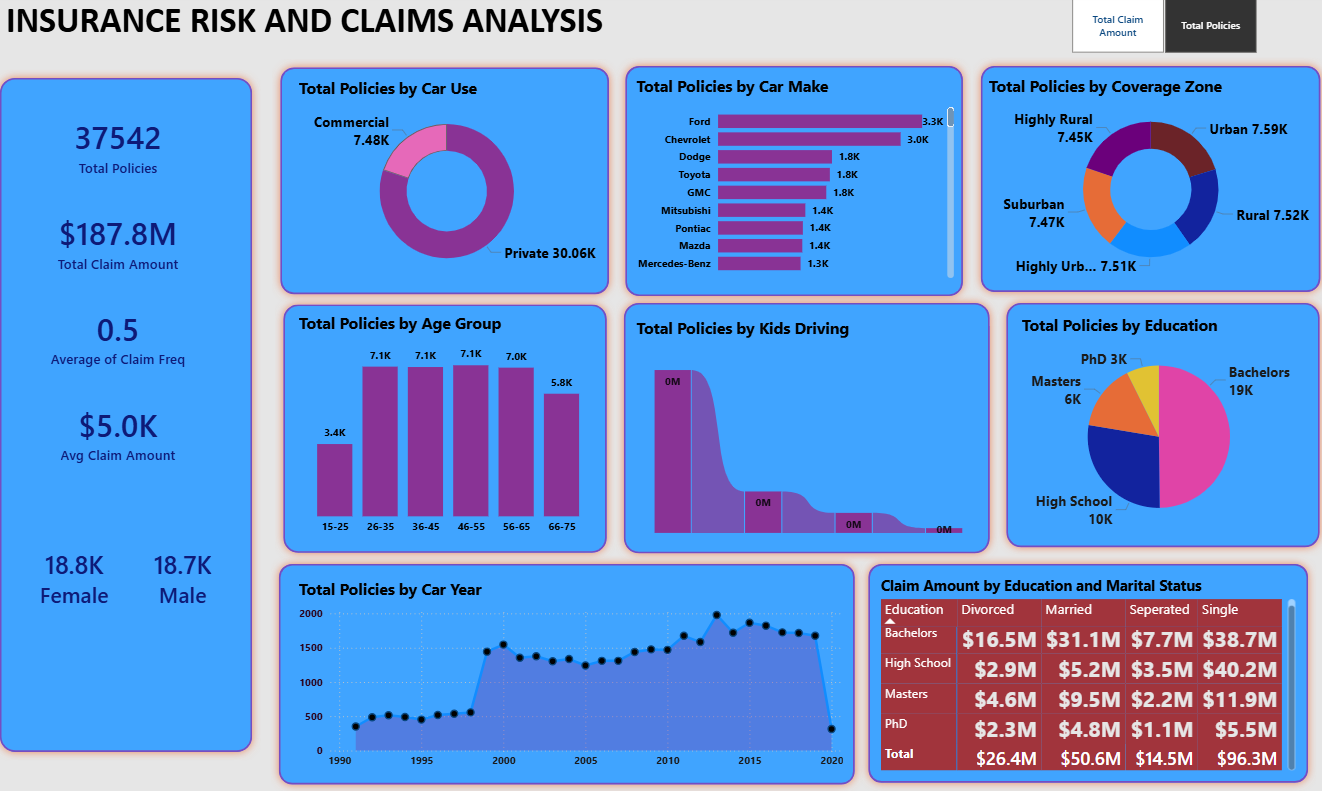

The dashboard page shown, as its layout file describes it:
{"tool":"powerbi","page":{"name":"Page 1","canvas":[1600,950],"ordinal":0},"visuals":[{"type":"textbox","box":[9.4,0,744.1,68.5],"z":0},{"type":"shape","box":[9.5,90.9,319.9,821.5],"z":1000},{"type":"cardVisual","fields":{"Data":["Sheet1.Total Policies","Sheet1.Total Claim Amount","Avg(Sheet1.Claim Freq)","Sheet1.Avg Claim Amount"]},"box":[34.1,117.4,251.7,473.2],"z":2000},{"type":"cardVisual","fields":{"Data":["Sheet1.Female Count","Sheet1.Male Count"]},"box":[36,518.6,272.6,353.9],"z":3000},{"type":"slicer","fields":{"Values":["Select Measure.Select Measure"]},"box":[1268.1,0,268.8,77.6],"z":4000},{"type":"shape","box":[342.6,77.6,410.7,289.6],"z":5000},{"type":"donutChart","fields":{"Y":["Sheet1.Total Claim Amount"],"Category":["Sheet1.Car Use"]},"box":[369.1,100.3,361.5,246.1],"z":6000},{"type":"shape","box":[753.5,77,421.3,293.7],"z":7000},{"type":"clusteredBarChart","fields":{"Y":["Sheet1.Total Claim Amount"],"Category":["Sheet1.Car Make"]},"box":[770.3,98.7,387.6,245.5],"z":8000},{"type":"shape","box":[1174.7,77,423.7,288.9],"z":9000},{"type":"donutChart","fields":{"Y":["Sheet1.Total Claim Amount"],"Category":["Sheet1.Coverage Zone"]},"box":[1189.2,98.7,394.8,245.5],"z":10000},{"type":"shape","box":[346.6,361.1,404.4,315.4],"z":11000},{"type":"clusteredColumnChart","fields":{"Category":["Sheet1.Age Group"],"Y":["Sheet1.Total Claim Amount"]},"box":[368.3,380.3,365.9,272],"z":12000},{"type":"shape","box":[751.1,358.7,455,317.8],"z":13000},{"type":"ribbonChart","fields":{"Category":["Sheet1.Kids Driving"],"Y":["Sheet1.Total Claim Amount"]},"box":[770.3,385.2,418.9,262.4],"z":14000},{"type":"shape","box":[341.5,669.1,704.6,282.2],"z":15000},{"type":"areaChart","fields":{"Category":["Sheet1.Car Year"],"Y":["Sheet1.Total Claim Amount"]},"box":[369.1,694.7,657.2,234.9],"z":16000},{"type":"shape","box":[1206,358.7,392.4,310.5],"z":16500},{"type":"pieChart","fields":{"Category":["Sheet1.Education"],"Y":["Sheet1.Total Claim Amount"]},"box":[1229.6,380.9,335.5,266.5],"z":17000},{"type":"shape","box":[1042.1,669.1,542.8,280.3],"z":17001},{"type":"pivotTable","title":"Claim Amount by Education and Marital Status","fields":{"Rows":["Sheet1.Education"],"Columns":["Sheet1.Marital Status"],"Values":["Sheet1.Total Claim Amount"]},"box":[1061.9,692.8,503.3,236.8],"z":17002}]}

Visuals, with their boxes in screenshot pixels (x1, y1, x2, y2), scaled from the page's 1600x950 canvas onto the 1322x791 screenshot:
textbox: BBox(8, 0, 623, 57)
shape: BBox(8, 76, 272, 760)
cardVisual - Sheet1.Total Policies x Sheet1.Total Claim Amount: BBox(28, 98, 236, 492)
cardVisual - Sheet1.Female Count x Sheet1.Male Count: BBox(30, 432, 255, 726)
slicer - Select Measure.Select Measure: BBox(1048, 0, 1270, 65)
shape: BBox(283, 65, 622, 306)
donutChart - Sheet1.Total Claim Amount x Sheet1.Car Use: BBox(305, 84, 604, 288)
shape: BBox(623, 64, 971, 309)
clusteredBarChart - Sheet1.Total Claim Amount x Sheet1.Car Make: BBox(636, 82, 957, 287)
shape: BBox(971, 64, 1321, 305)
donutChart - Sheet1.Total Claim Amount x Sheet1.Coverage Zone: BBox(983, 82, 1309, 287)
shape: BBox(286, 301, 621, 563)
clusteredColumnChart - Sheet1.Age Group x Sheet1.Total Claim Amount: BBox(304, 317, 607, 543)
shape: BBox(621, 299, 997, 563)
ribbonChart - Sheet1.Kids Driving x Sheet1.Total Claim Amount: BBox(636, 321, 983, 539)
shape: BBox(282, 557, 864, 790)
areaChart - Sheet1.Car Year x Sheet1.Total Claim Amount: BBox(305, 578, 848, 774)
shape: BBox(996, 299, 1321, 557)
pieChart - Sheet1.Education x Sheet1.Total Claim Amount: BBox(1016, 317, 1293, 539)
shape: BBox(861, 557, 1310, 790)
"Claim Amount by Education and Marital Status" pivotTable: BBox(877, 577, 1293, 774)
